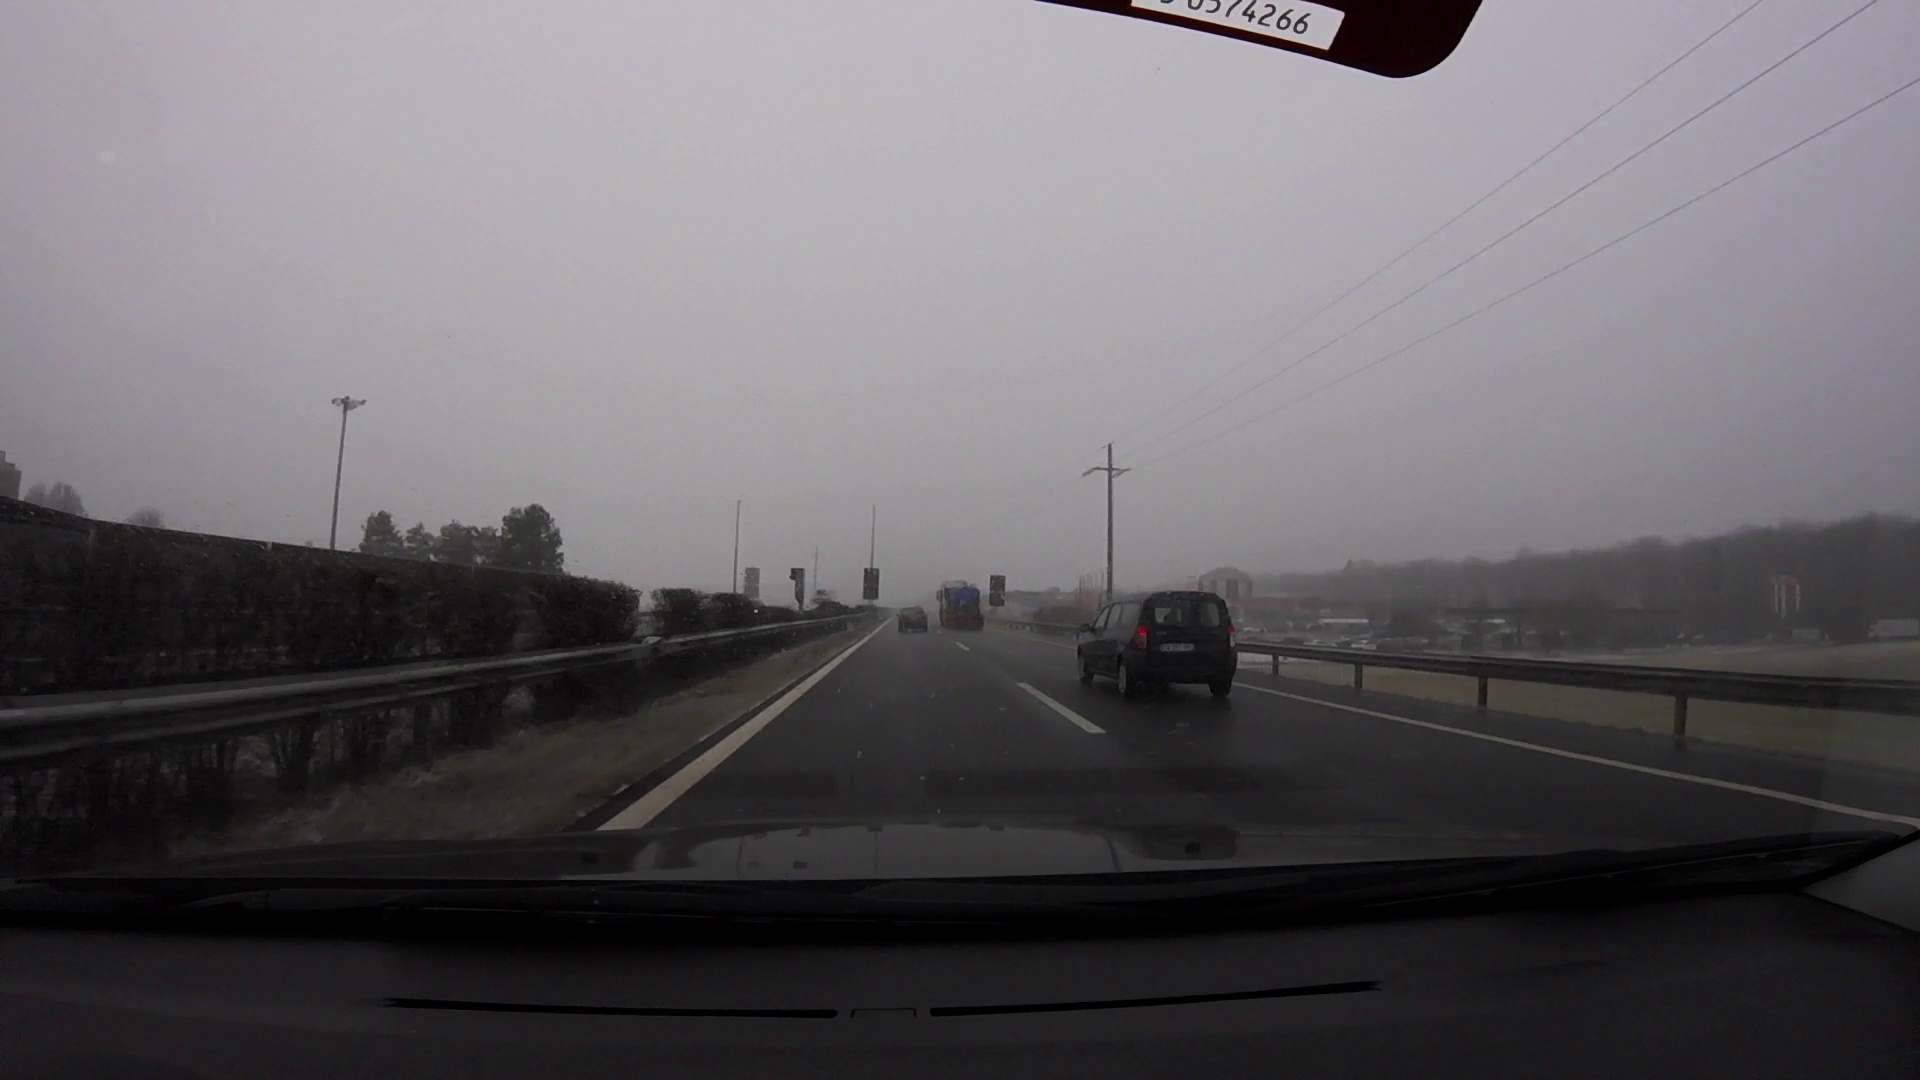radar: (789, 566, 807, 608)
